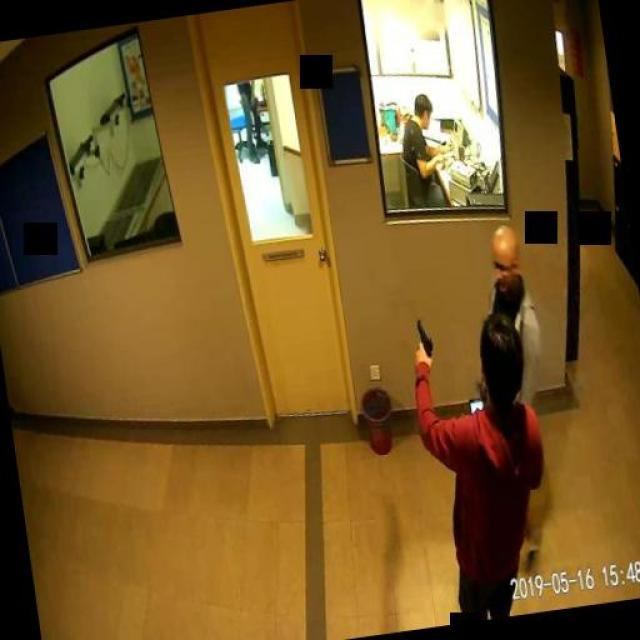gun: (410, 316, 435, 362)
